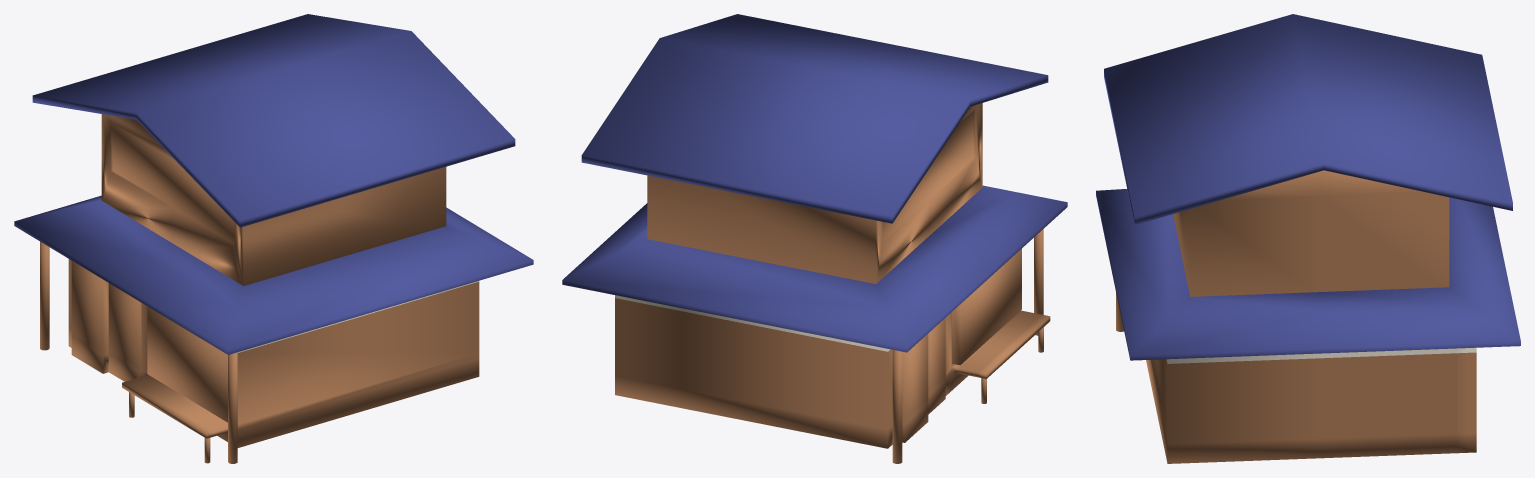
The model's file is 053_古民家014.glb.
The picture shows the model from 3 angles, left to right: view 1: azimuth 30°, elevation 25°; view 2: azimuth 150°, elevation 25°; view 3: azimuth 270°, elevation 25°; orthographic projection. The views are drawn at different scales.
Parts seen in each view (by area): view 1: 立方体038_1, 立方体038_3, 立方体038_4, 立方体038; view 2: 立方体038_1, 立方体038_3, 立方体038_4, 立方体038, 立方体038_2; view 3: 立方体038_1, 立方体038_3, 立方体038_2.
Part boxes in pixels (x1,y1,x2,y2): 立方体038_1: (14, 14, 533, 354); 立方体038_3: (68, 114, 479, 447); 立方体038_4: (71, 124, 234, 422); 立方体038: (40, 241, 237, 463); 立方体038_1: (562, 14, 1067, 352); 立方体038_3: (615, 103, 1050, 448); 立方体038_4: (882, 111, 1021, 442); 立方体038: (892, 229, 1043, 463); 立方体038_2: (615, 295, 889, 351); 立方体038_1: (1096, 14, 1520, 360); 立方体038_3: (1146, 170, 1476, 463); 立方体038_2: (1166, 347, 1476, 363).
Size of the model in its own units: 3.38 by 2.75 by 3.38.
